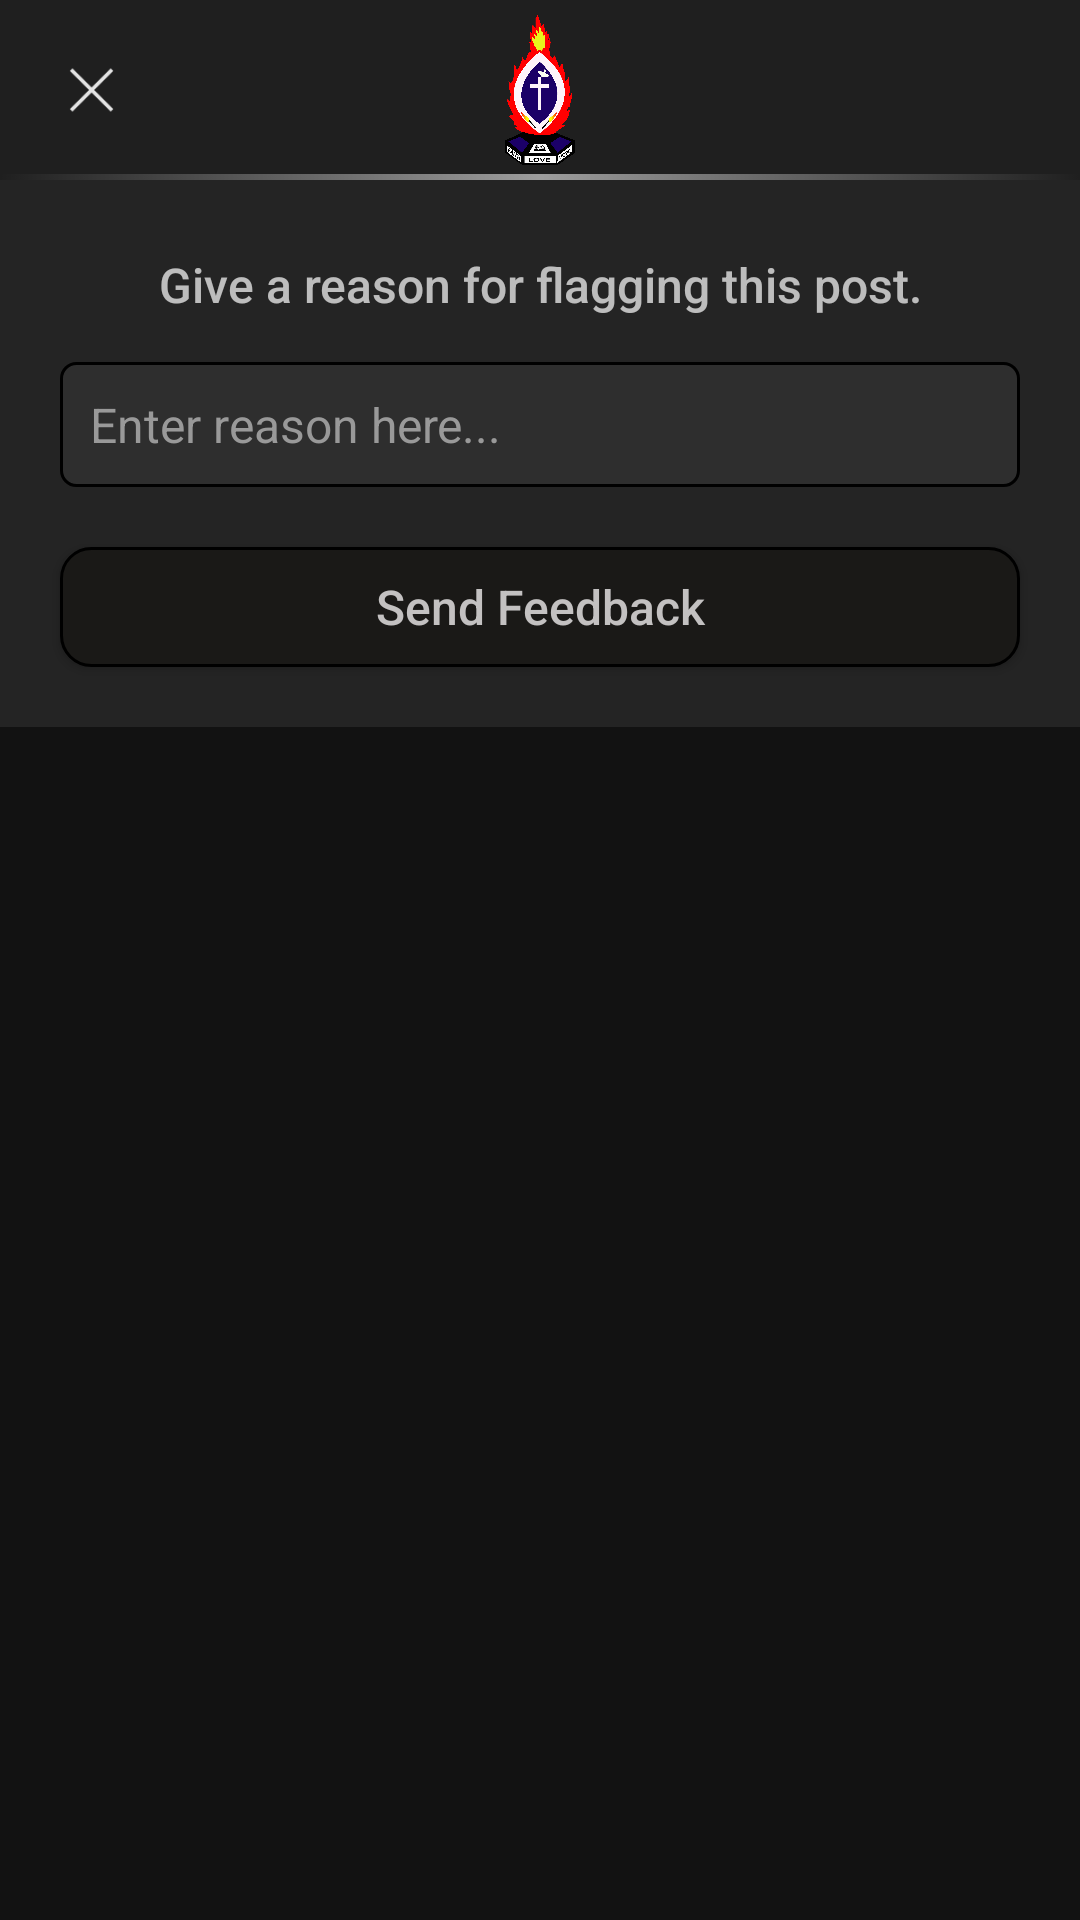

Icon click points for this 1080 × 1920 phone screenshot, format [x,y]:
cancel: [91,90]
